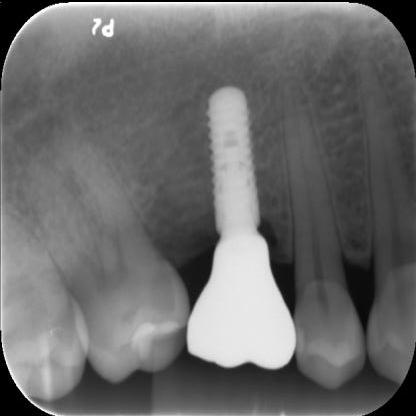ITI: (197, 78, 269, 240)
